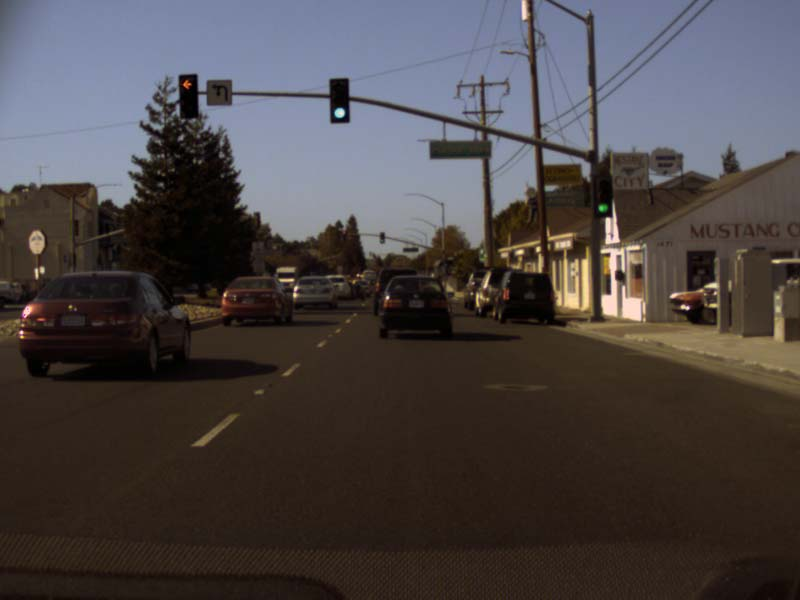Green: (591, 174, 612, 216), (330, 77, 349, 123), (379, 232, 384, 244)
Red: (178, 74, 198, 116)
